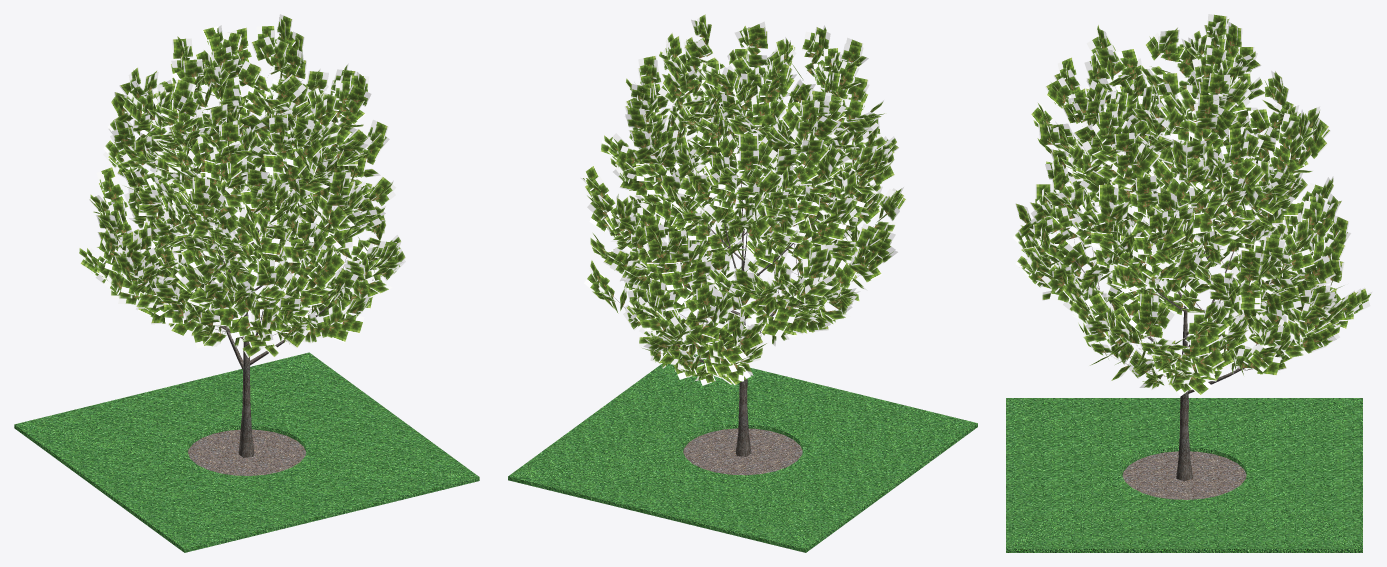
The model's file is maple_tree.glb.
The picture shows the model from 3 angles, left to right: view 1: azimuth 30°, elevation 25°; view 2: azimuth 150°, elevation 25°; view 3: azimuth 270°, elevation 25°; orthographic projection. The views are drawn at different scales.
Visible parts, largest first — view 1: Material2.002, Material2.001, Material2; view 2: Material2.002, Material2.001, Material2; view 3: Material2.002, Material2.001, Material2.
Part boxes in pixels (x1=…): Material2.002: x1=14, y1=352, x2=479, y2=552; Material2.001: x1=188, y1=429, x2=305, y2=475; Material2: x1=140, y1=93, x2=376, y2=457; Material2.002: x1=508, y1=354, x2=977, y2=552; Material2.001: x1=683, y1=428, x2=802, y2=475; Material2: x1=614, y1=85, x2=879, y2=456; Material2.002: x1=1006, y1=398, x2=1362, y2=552; Material2.001: x1=1122, y1=451, x2=1246, y2=499; Material2: x1=1043, y1=56, x2=1313, y2=481.
Size of the model in its own units: 242 by 325 by 247.
4 materials, 4 textured.
